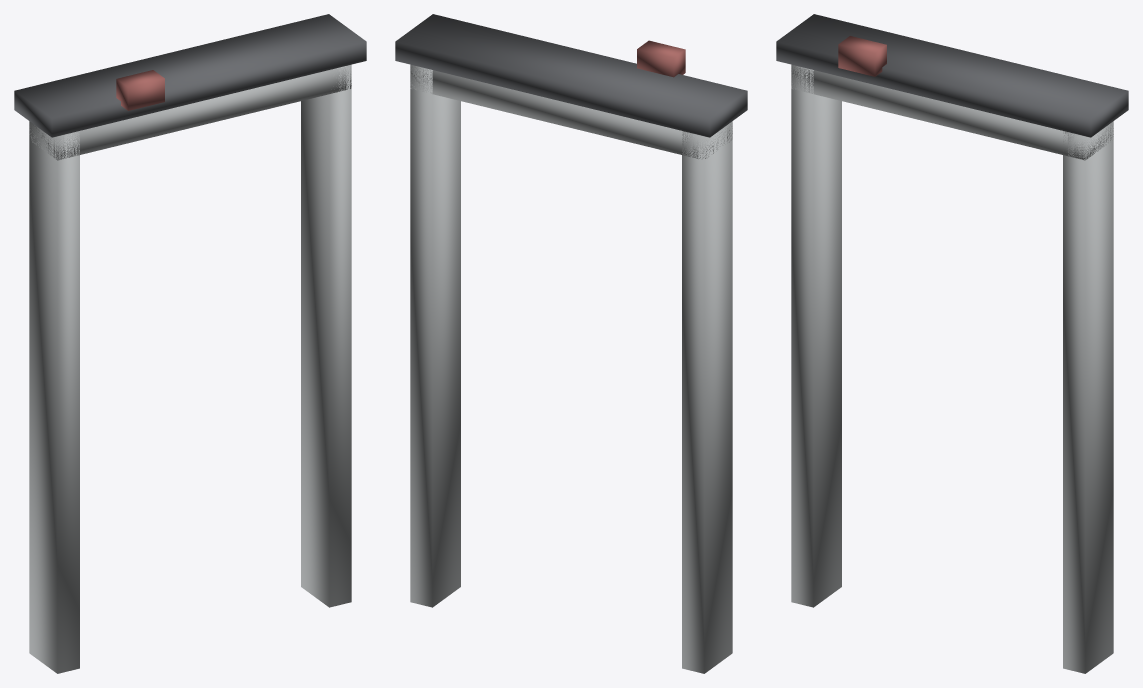
Rendered from doorway_fire_rated_w122_h240_d24.glb.
3 renders of one model, left to right at view 1: azimuth 30°, elevation 25°; view 2: azimuth 150°, elevation 25°; view 3: azimuth 330°, elevation 25°, orthographic.
Visible parts, largest first — view 1: world; view 2: world; view 3: world.
Part boxes in pixels (box(x1,y1,x2,y2)): world: box(14, 14, 366, 673); world: box(395, 14, 747, 673); world: box(776, 14, 1128, 673).
Size of the model in its own units: 1.54 by 2.71 by 0.38.
